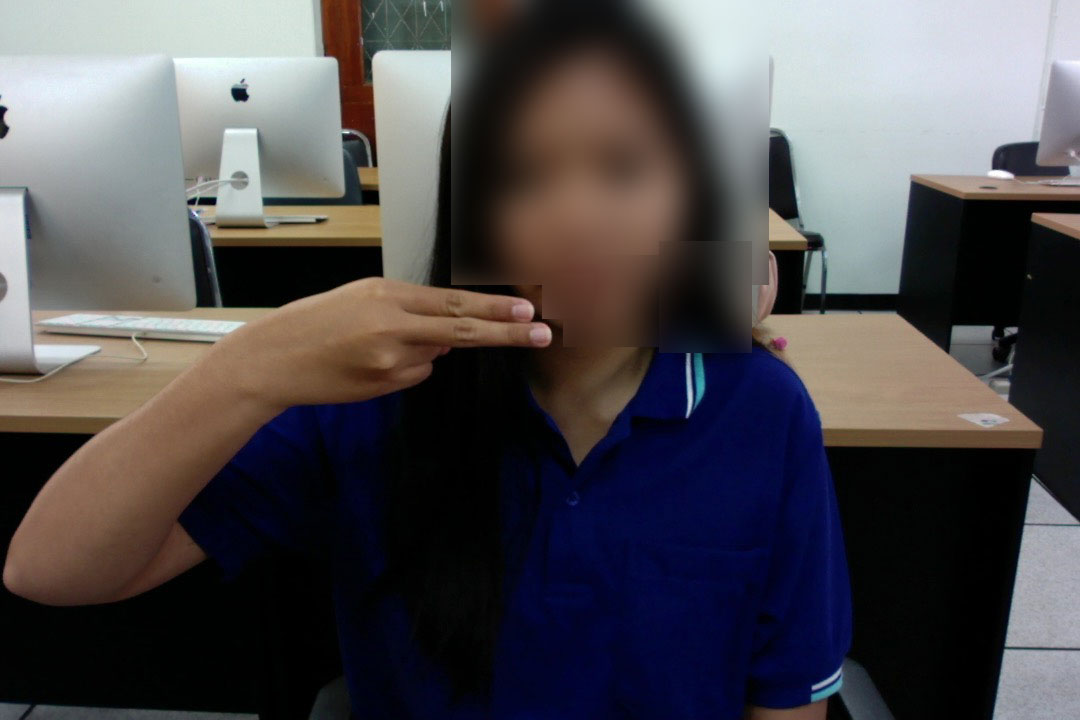hor: (241, 271, 560, 410)
